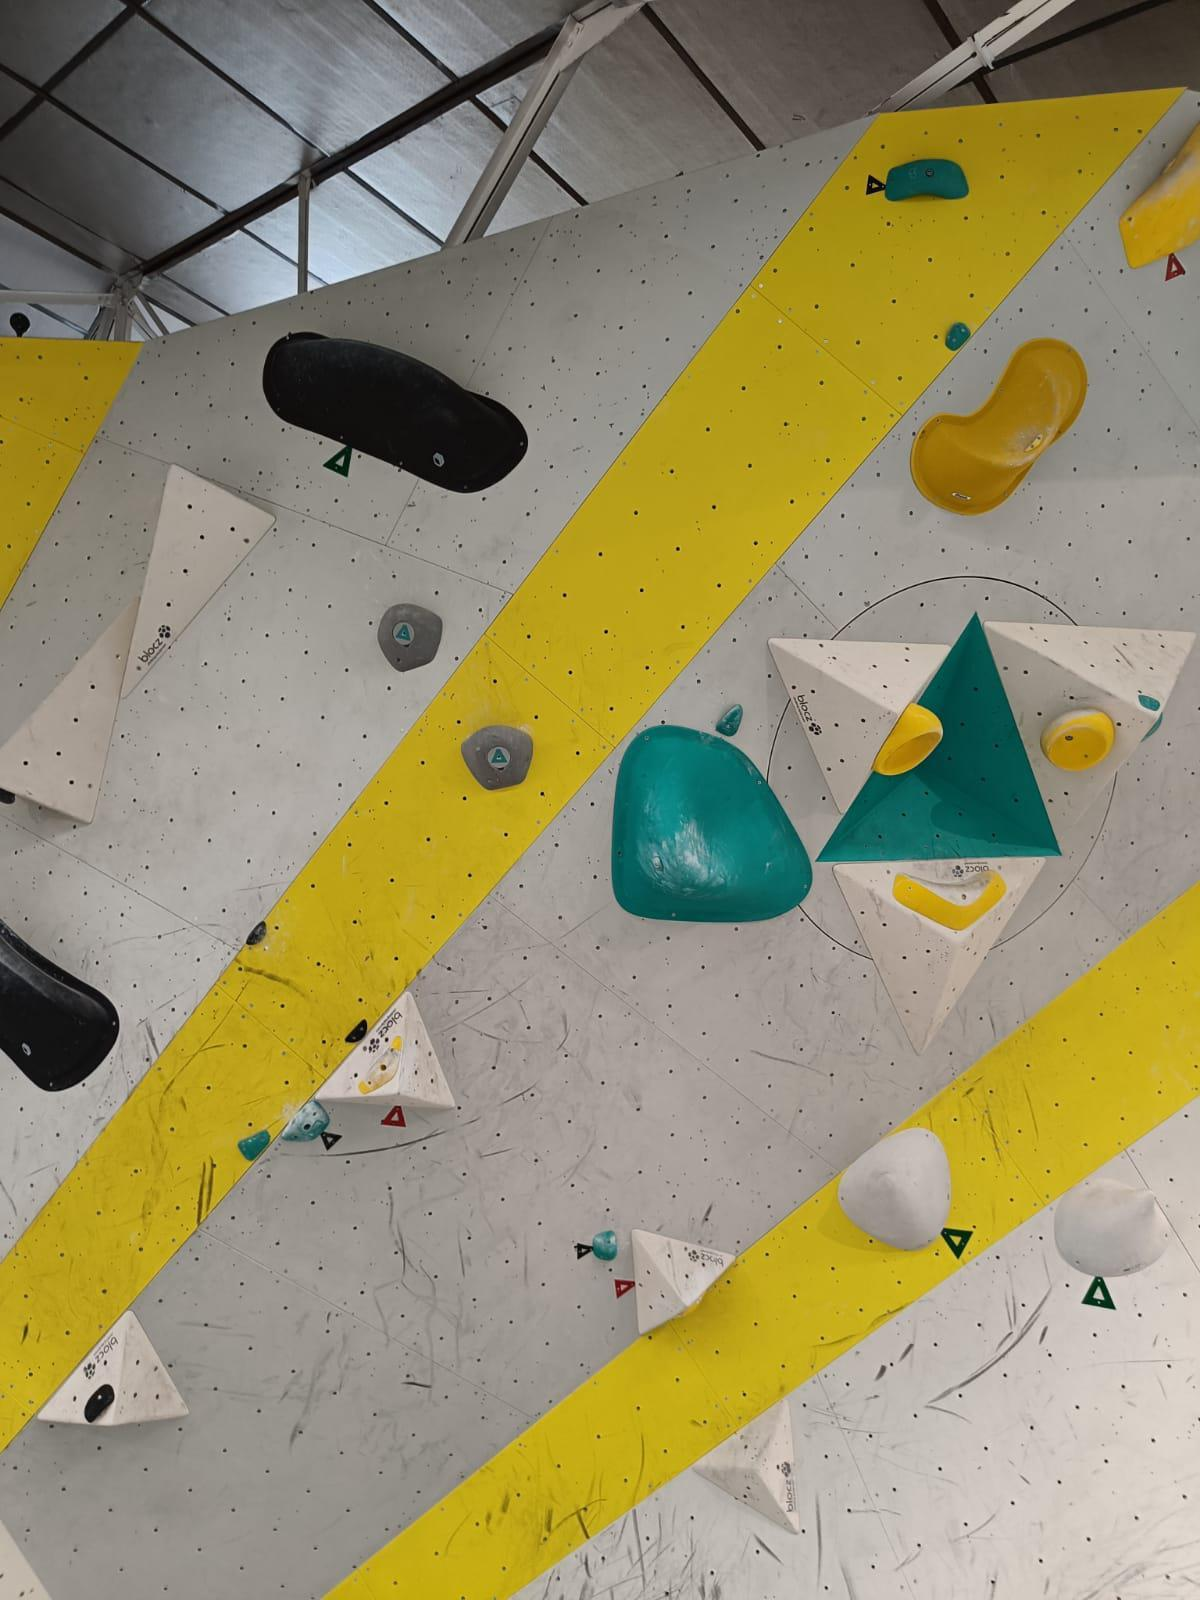hold: (262, 331, 528, 494), (611, 726, 813, 921), (910, 336, 1088, 515), (0, 917, 120, 1091), (837, 1128, 952, 1251), (1119, 122, 1200, 270), (1054, 1178, 1172, 1277), (892, 871, 1007, 931), (871, 703, 943, 777), (1040, 707, 1116, 772), (460, 724, 533, 790), (377, 603, 442, 671), (885, 159, 969, 202), (358, 1036, 402, 1094), (281, 1100, 330, 1141), (668, 1288, 707, 1322), (84, 1385, 115, 1424), (237, 1129, 271, 1160), (715, 703, 742, 736), (592, 1230, 618, 1261), (944, 321, 971, 350), (1139, 712, 1163, 743), (344, 1018, 368, 1042), (246, 921, 267, 946), (1024, 433, 1045, 454), (1138, 694, 1160, 711), (0, 787, 15, 804)
volume: (814, 611, 1063, 862), (983, 621, 1197, 843), (832, 857, 1046, 1056), (121, 464, 276, 699), (768, 637, 952, 814), (37, 1310, 190, 1426), (315, 990, 456, 1109), (692, 1398, 799, 1536), (632, 1228, 736, 1335), (0, 1518, 53, 1600)
